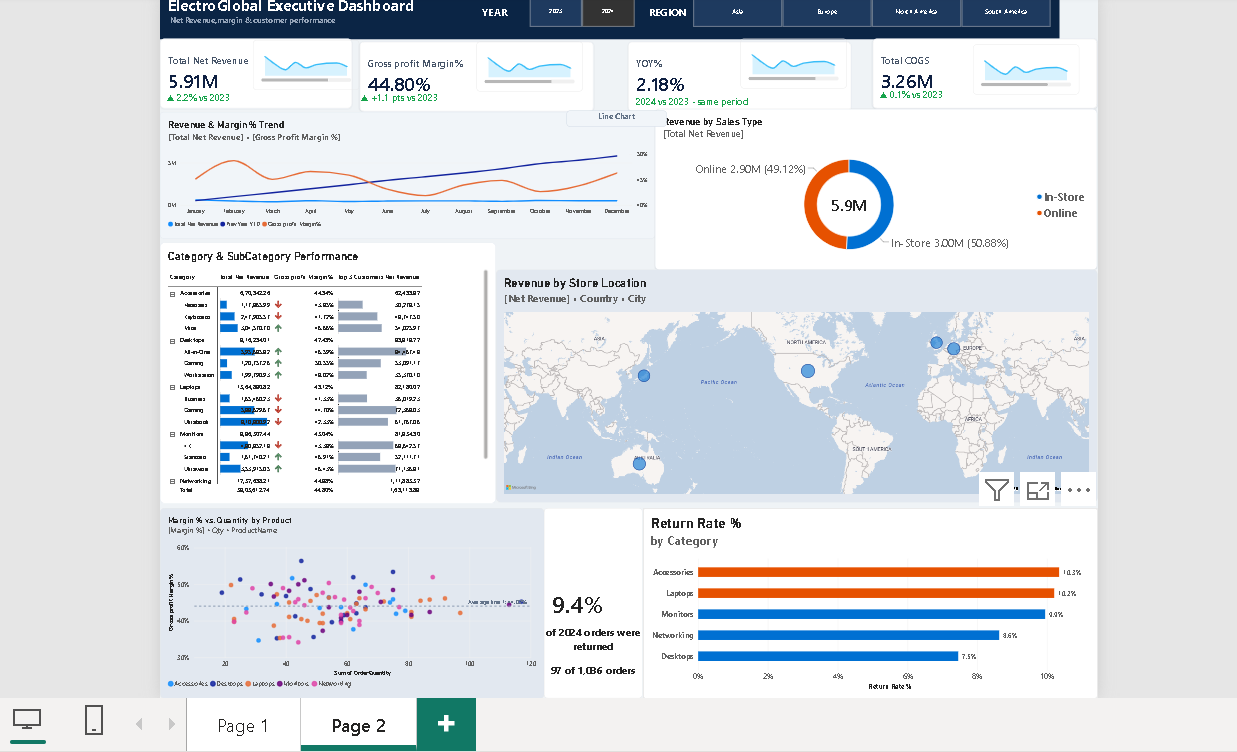

The dashboard page shown, as its layout file describes it:
{"tool":"powerbi","page":{"name":"Page 2","canvas":[2000,1500],"ordinal":1},"visuals":[{"type":"shape","box":[0,0,1919.6,94.5],"z":0},{"type":"textbox","box":[0,0,569.2,94.5],"z":1000},{"type":"slicer","fields":{"Values":["Dates.Year"]},"box":[767.4,0,262.7,69.1],"z":2000},{"type":"slicer","fields":{"Values":["Customers.Region"]},"box":[1117.7,0,802,69.1],"z":3000},{"type":"textbox","box":[663.7,0,103.7,69.1],"z":4000},{"type":"textbox","box":[1030.1,0,103.7,69.1],"z":5000},{"type":"cardVisual","fields":{"Data":["Measure.Total Net Revenue"]},"box":[0,93.3,410,150],"z":6000},{"type":"cardVisual","fields":{"Data":["Measure.Gross profit Margin%"]},"box":[426.7,100,500,150],"z":7000},{"type":"cardVisual","fields":{"Data":["Measure.Total COGS"]},"box":[1520,93.3,480,150],"z":8000},{"type":"cardVisual","fields":{"Data":["Measure.YOY%"]},"box":[1000,100,476.7,150],"z":9000},{"type":"lineChart","title":"Revenue & Margin % Trend","fields":{"Category":["Dates.MonthName"],"Y":["Measure.Total Net Revenue","Measure.Prev Year YTD"],"Y2":["Measure.Gross profit Margin%"]},"box":[0,250,1056.7,270],"z":10000},{"type":"donutChart","title":"Revenue by Sales Type","fields":{"Category":["Sales.SalesType"],"Y":["Measure.Total Net Revenue"]},"box":[1056.7,243.3,943.3,343.3],"z":11000},{"type":"textbox","box":[868.8,246.6,214.3,34.6],"z":12000},{"type":"pivotTable","title":"Category & SubCategory Performance","fields":{"Rows":["Products.Category","Products.SubCategory"],"Values":["Measure.Total Net Revenue","Measure.Gross profit Margin%","Measure.Top 3 Customers Net Revenue"]},"box":[0,526.7,716.7,556.7],"z":13000},{"type":"map","title":"Revenue by Store Location","fields":{"Category":["Stores.Country"],"Size":["Measure.Total Net Revenue"]},"box":[716.7,586.7,1283.3,496.7],"z":14000},{"type":"scatterChart","title":"Margin % vs. Quantity by Product","fields":{"Category":["Products.ProductName"],"Series":["Products.Category"],"X":["Sum(Sales.OrderQuantity)"],"Y":["Measure.Gross profit Margin%"]},"box":[0,1093.3,820,406.7],"z":15000},{"type":"clusteredBarChart","fields":{"Category":["Products.Category"],"Y":["Measure.Return Rate %"]},"box":[1030,1093.3,970,406.7],"z":16000},{"type":"cardVisual","fields":{"Data":["Measure.Return Rate %"]},"box":[820,1093.3,210,406.7],"z":16001},{"type":"textbox","box":[820,1343.3,210,113.3],"z":16002},{"type":"stackedAreaChart","fields":{"Category":["Dates.MonthName"],"Y":["Measure.Total Net Revenue"]},"box":[200,96.7,226.7,106.7],"z":16003},{"type":"textbox","box":[0,203.3,163.3,26.7],"z":16005},{"type":"stackedAreaChart","fields":{"Category":["Dates.MonthName"],"Y":["Measure.Total Net Revenue"]},"box":[676.7,100,226.7,106.7],"z":16006},{"type":"stackedAreaChart","fields":{"Category":["Dates.MonthName"],"Y":["Measure.Total Net Revenue"]},"box":[1240,93.3,226.7,106.7],"z":16007},{"type":"stackedAreaChart","fields":{"Category":["Dates.MonthName"],"Y":["Measure.Total Net Revenue"]},"box":[1733.3,106.7,226.7,106.7],"z":16008},{"type":"textbox","box":[426.7,203.3,170,60],"z":16009},{"type":"textbox","box":[1000,213.3,276.7,33.3],"z":16010},{"type":"textbox","box":[1476.7,200,256.7,50],"z":16011}]}

Visuals, with their boxes on the page's 2000x1500 design canvas (x1, y1, x2, y2). These are canvas units, not pixel positions in the 1237x752 screenshot, which may show the page scaled, cropped or inside an application window:
shape: region(0, 0, 1920, 94)
textbox: region(0, 0, 569, 94)
slicer - Dates.Year: region(767, 0, 1030, 69)
slicer - Customers.Region: region(1118, 0, 1920, 69)
textbox: region(664, 0, 767, 69)
textbox: region(1030, 0, 1134, 69)
cardVisual - Measure.Total Net Revenue: region(0, 93, 410, 243)
cardVisual - Measure.Gross profit Margin%: region(427, 100, 927, 250)
cardVisual - Measure.Total COGS: region(1520, 93, 2000, 243)
cardVisual - Measure.YOY%: region(1000, 100, 1477, 250)
"Revenue & Margin % Trend" lineChart: region(0, 250, 1057, 520)
"Revenue by Sales Type" donutChart: region(1057, 243, 2000, 587)
textbox: region(869, 247, 1083, 281)
"Category & SubCategory Performance" pivotTable: region(0, 527, 717, 1083)
"Revenue by Store Location" map: region(717, 587, 2000, 1083)
"Margin % vs. Quantity by Product" scatterChart: region(0, 1093, 820, 1500)
clusteredBarChart - Products.Category x Measure.Return Rate %: region(1030, 1093, 2000, 1500)
cardVisual - Measure.Return Rate %: region(820, 1093, 1030, 1500)
textbox: region(820, 1343, 1030, 1457)
stackedAreaChart - Dates.MonthName x Measure.Total Net Revenue: region(200, 97, 427, 203)
textbox: region(0, 203, 163, 230)
stackedAreaChart - Dates.MonthName x Measure.Total Net Revenue: region(677, 100, 903, 207)
stackedAreaChart - Dates.MonthName x Measure.Total Net Revenue: region(1240, 93, 1467, 200)
stackedAreaChart - Dates.MonthName x Measure.Total Net Revenue: region(1733, 107, 1960, 213)
textbox: region(427, 203, 597, 263)
textbox: region(1000, 213, 1277, 247)
textbox: region(1477, 200, 1733, 250)
